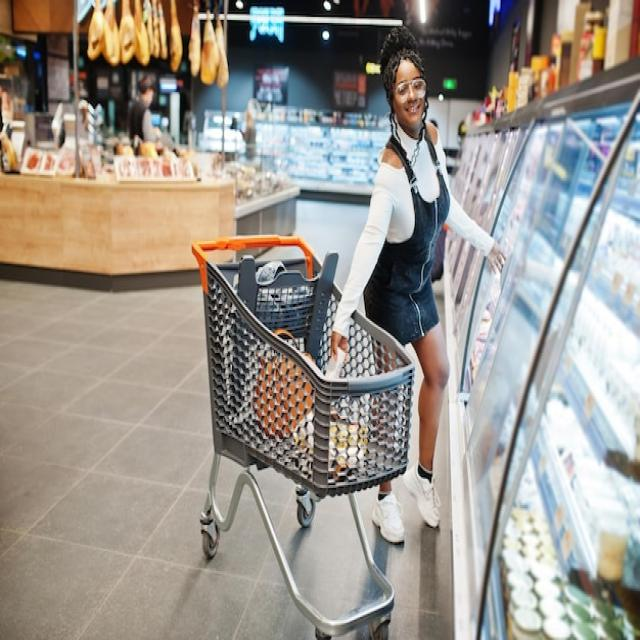Person: (332, 28, 508, 544)
